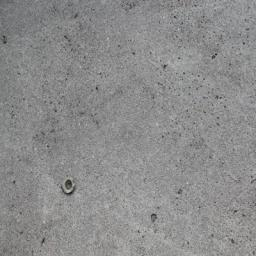FOD: (60, 176, 79, 195)
